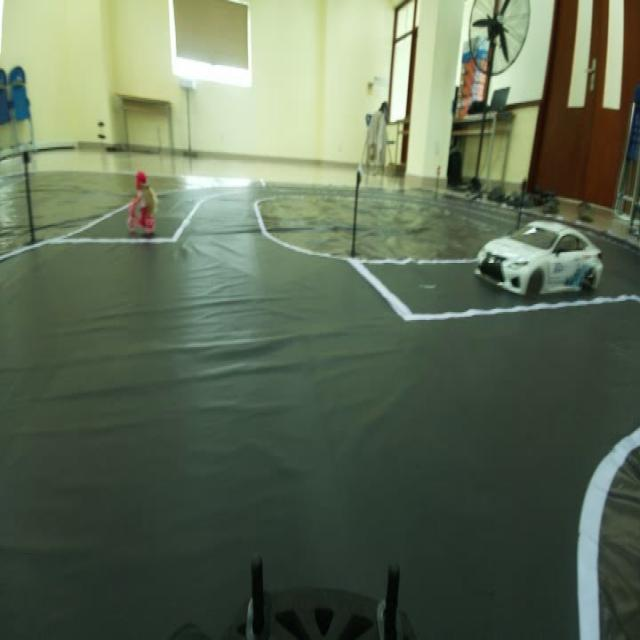car: (472, 205, 606, 304)
